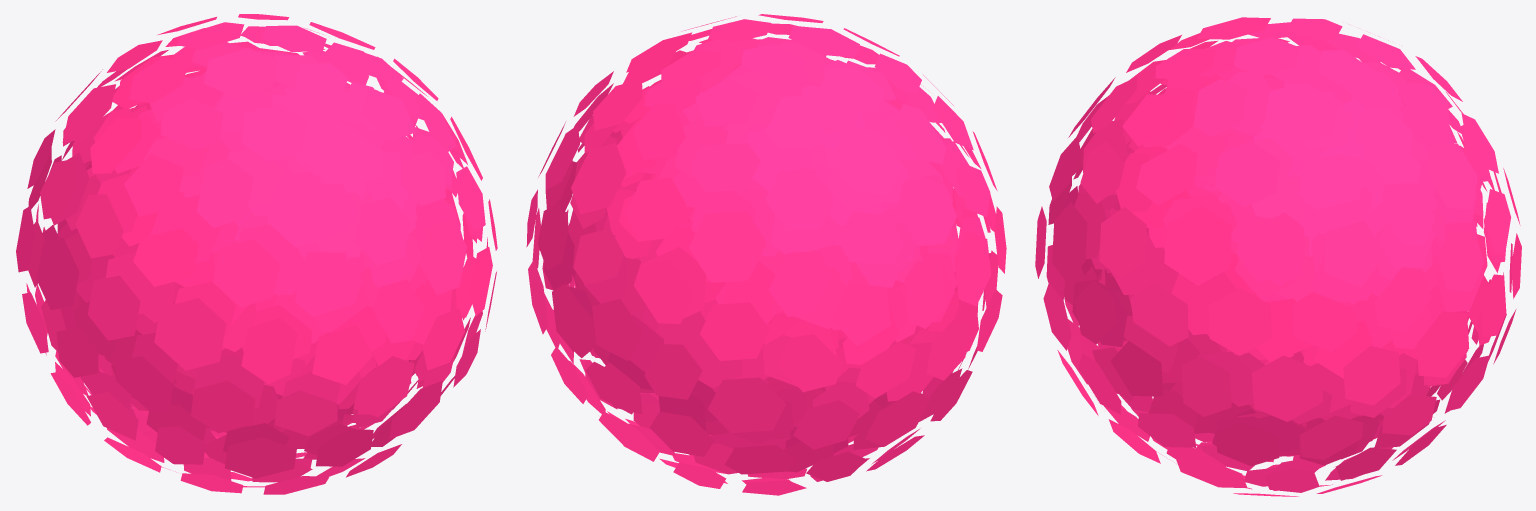
File: new_surface_study_1.glb
The picture shows the model from 3 angles, left to right: view 1: azimuth 30°, elevation 25°; view 2: azimuth 150°, elevation 25°; view 3: azimuth 270°, elevation 25°; orthographic projection.
Visible parts, largest first — view 1: Icosphere_0; view 2: Icosphere_0; view 3: Icosphere_0.
Part boxes in pixels (<box>): Icosphere_0: <box>16,14,497,494</box>; Icosphere_0: <box>526,14,1006,495</box>; Icosphere_0: <box>1035,17,1521,496</box>.
Size of the model in its own units: 2.33 by 2.34 by 2.35.
